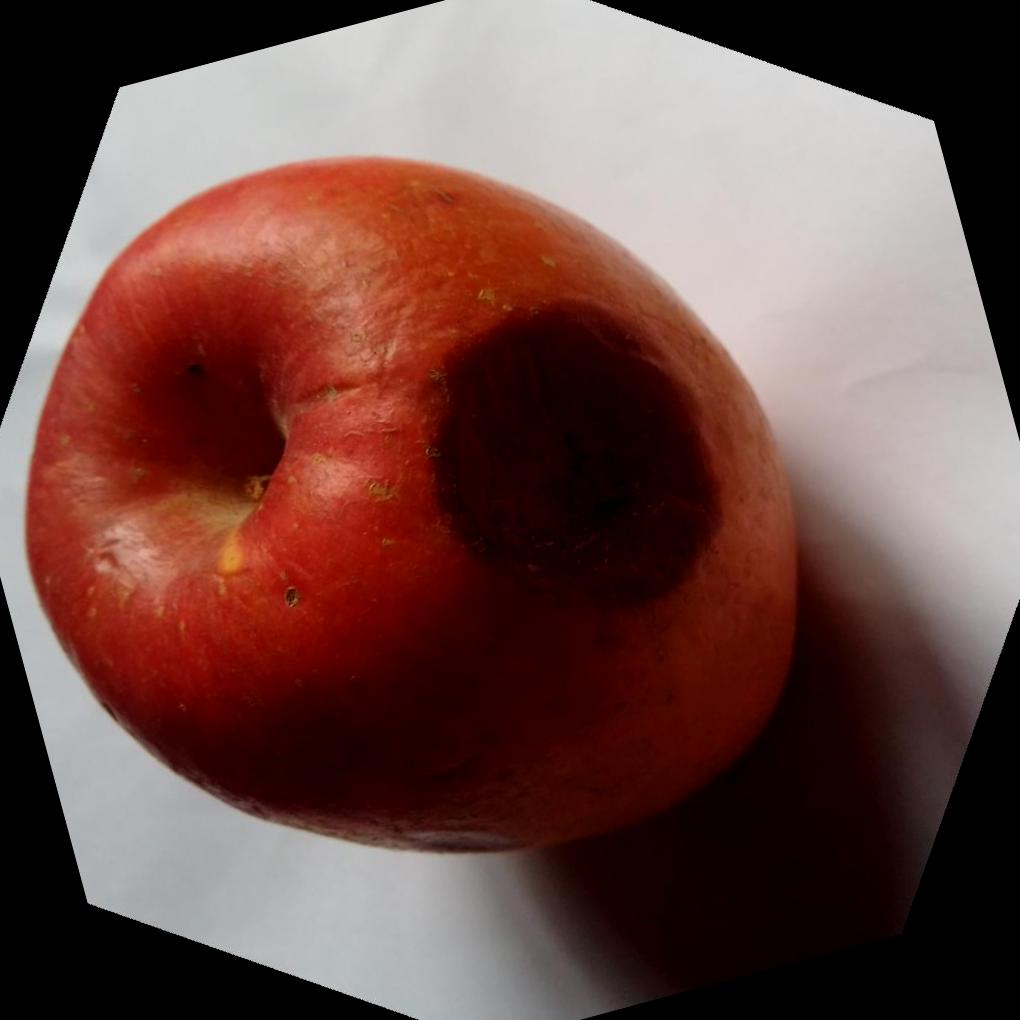FreshOrange: (23, 155, 803, 860)
